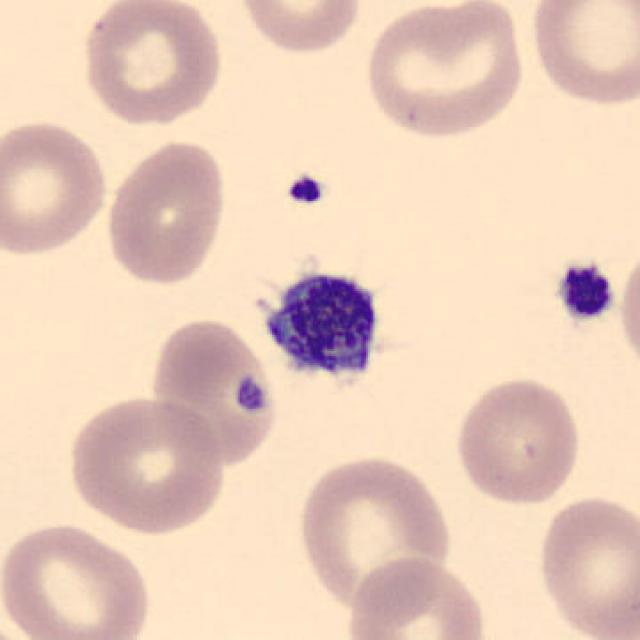Platelets: (247, 256, 397, 400), (553, 260, 617, 324), (281, 171, 329, 210), (231, 374, 274, 416)
RBC: (293, 451, 455, 617), (62, 391, 230, 536), (361, 0, 528, 143), (146, 314, 281, 469), (100, 134, 231, 289), (76, 0, 226, 129), (0, 518, 156, 639), (450, 372, 585, 510), (0, 115, 112, 261), (532, 490, 638, 640), (345, 553, 491, 640), (524, 0, 639, 109), (232, 0, 366, 56), (615, 238, 640, 377), (0, 615, 37, 639)
